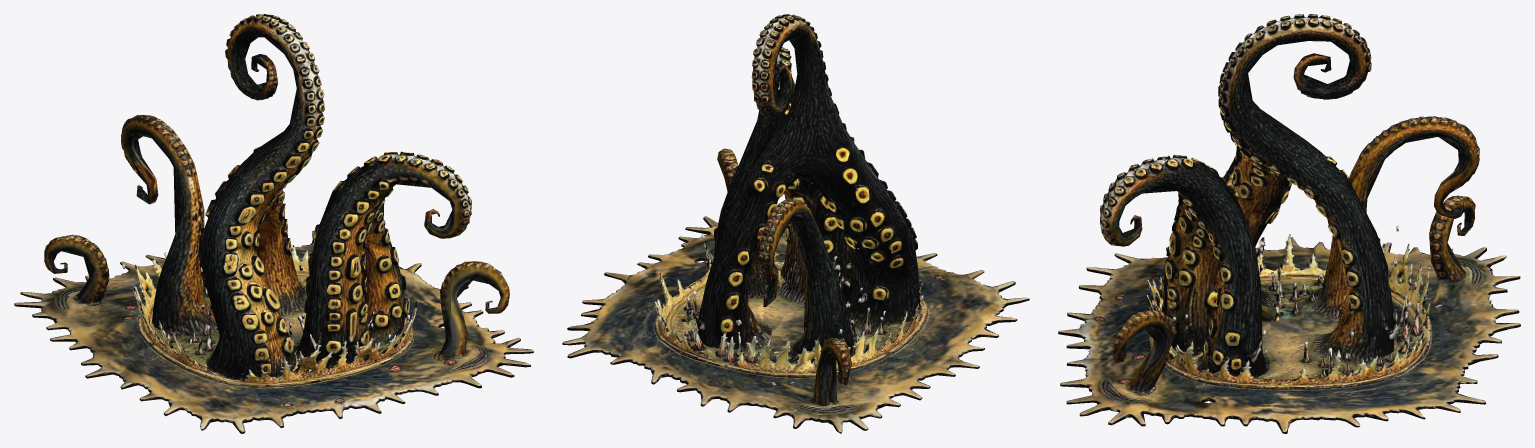
Rendered from tentacle.glb.
3 renders of one model, left to right at view 1: azimuth 30°, elevation 25°; view 2: azimuth 150°, elevation 25°; view 3: azimuth 270°, elevation 25°, orthographic. The views are drawn at different scales.
Parts seen in each view (by area): view 1: mesh; view 2: mesh; view 3: mesh.
Boxes of the visible parts, left/top/right/bottom form: mesh: left=14, top=14, right=533, bottom=433; mesh: left=562, top=14, right=1029, bottom=433; mesh: left=1058, top=14, right=1520, bottom=433.
Size of the model in its own units: 1.99 by 1.54 by 2.
1 material, 1 textured.
